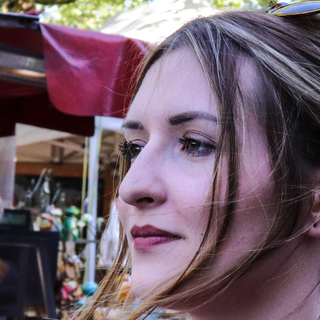eye: (174, 131, 217, 159)
